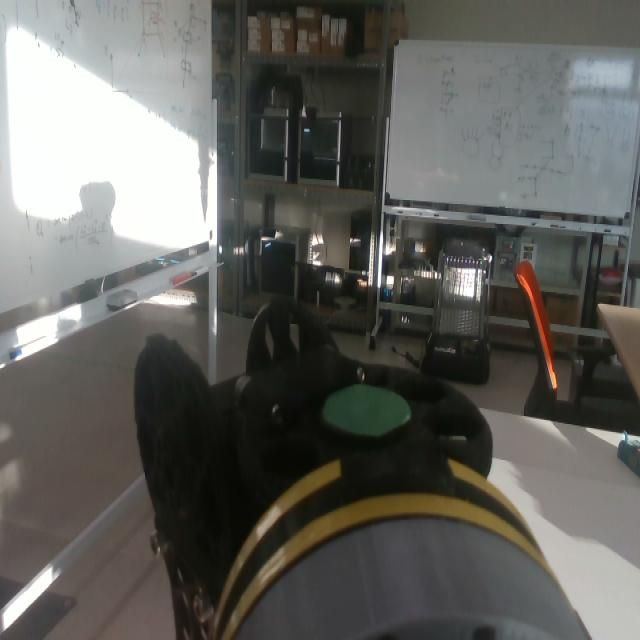body_connector: (231, 520, 590, 640)
connection: (211, 445, 594, 640)
leg: (134, 301, 554, 640)
leg_connector: (209, 449, 549, 640)
marker: (321, 384, 412, 436)
